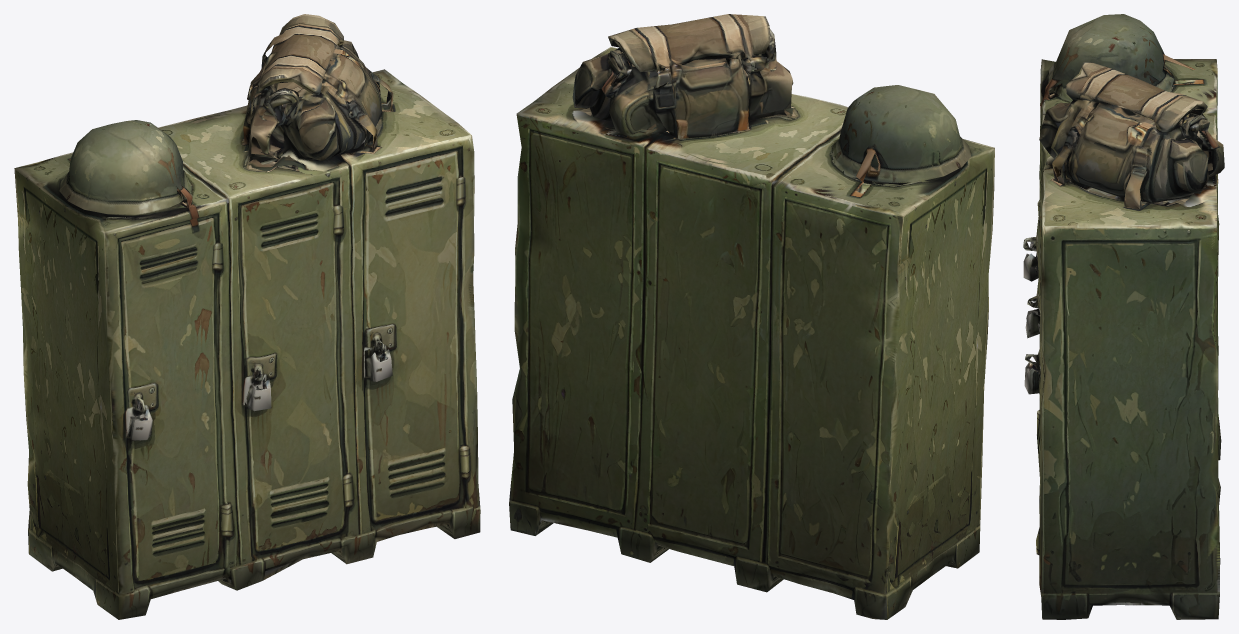
Rendered from EX_Mil_Lockers.fbx.
3 renders of one model, left to right at view 1: azimuth 30°, elevation 25°; view 2: azimuth 150°, elevation 25°; view 3: azimuth 270°, elevation 25°, orthographic. The views are drawn at different scales.
Visible parts, largest first — view 1: texture_mapping; view 2: texture_mapping; view 3: texture_mapping.
Part boxes in pixels (x1,y1,x2,y2): texture_mapping: (14,14,480,619); texture_mapping: (509,14,994,619); texture_mapping: (1023,14,1224,619).
Bounding box in the file's own units: 0.8179 × 0.3849 × 1.
Materials: 1 (1 with a texture image).
